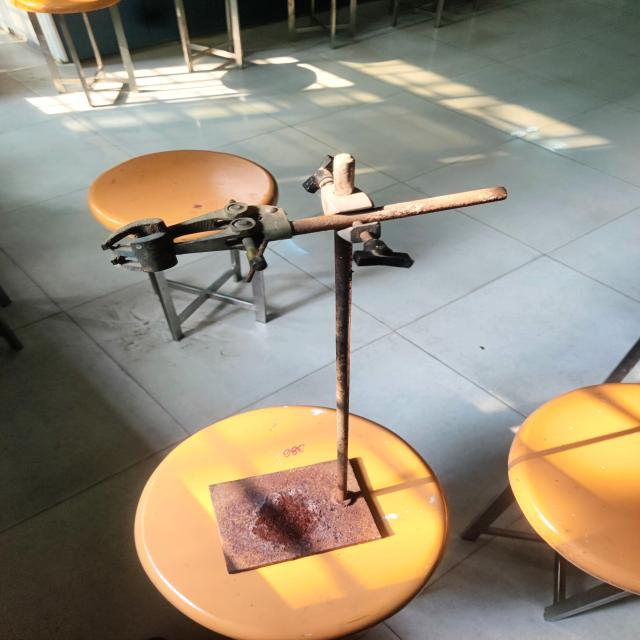Burette_Stands: (85, 129, 527, 596)
